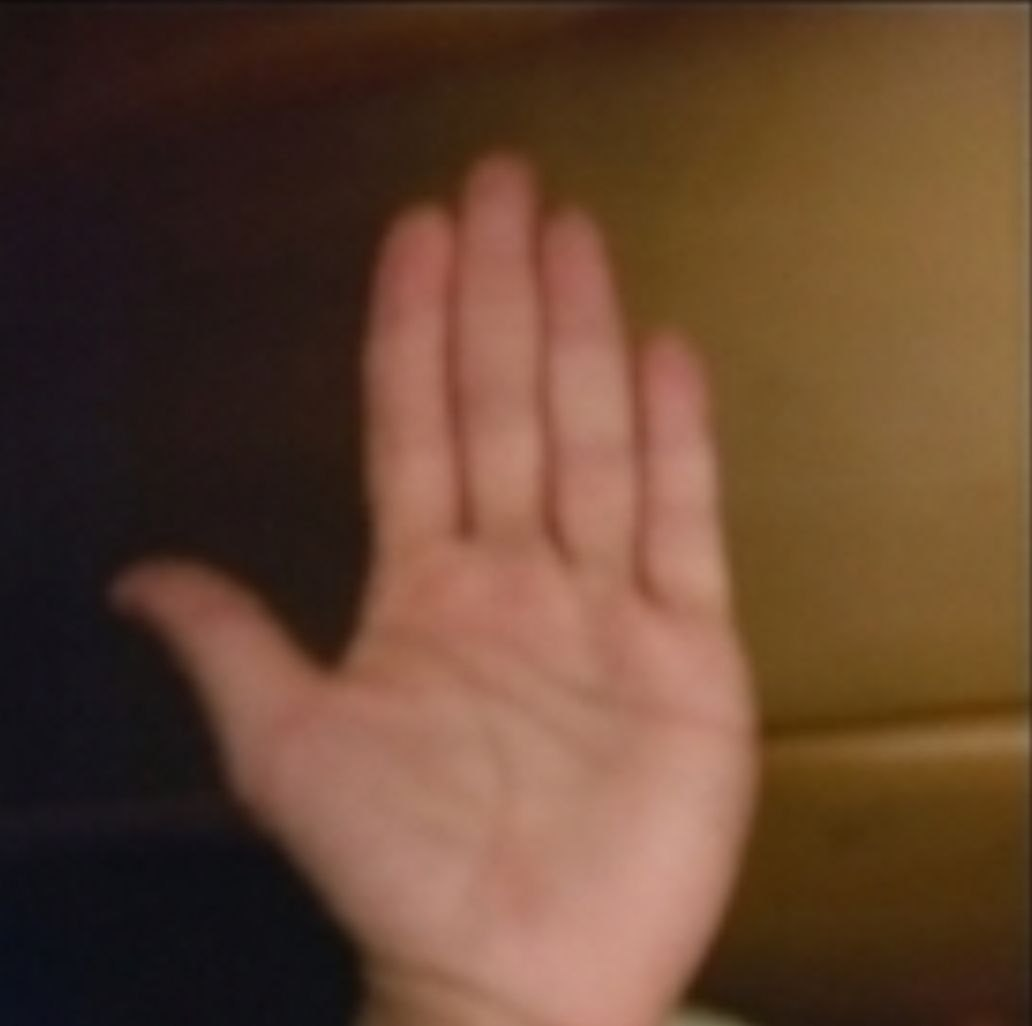Palm: (78, 119, 829, 1026)
